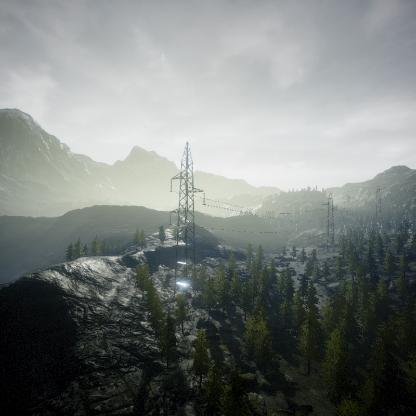tower: (169, 136, 207, 285), (322, 191, 340, 254)
